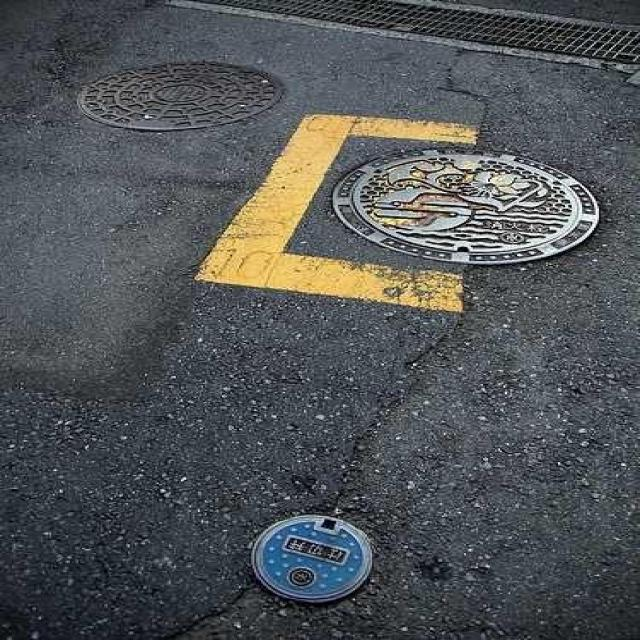manhole: (337, 150, 597, 263), (78, 62, 280, 131)
